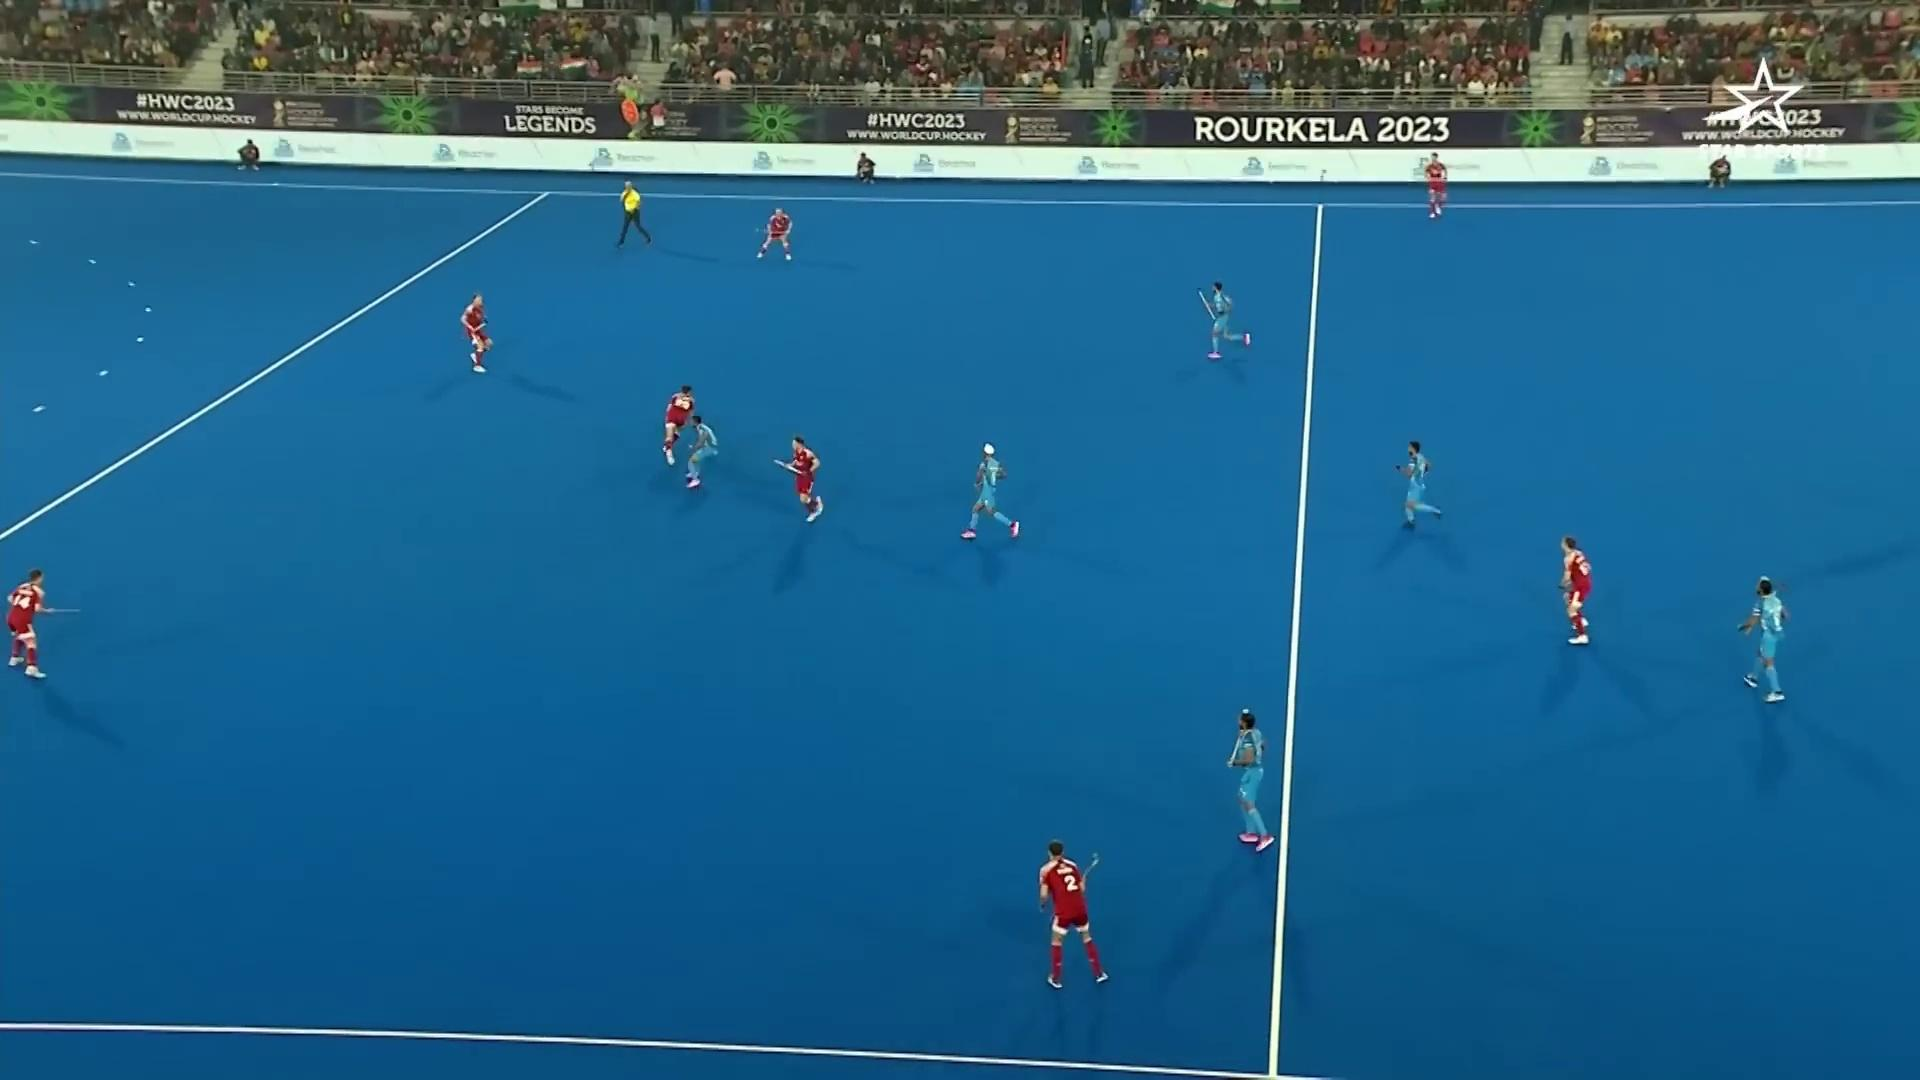ball: (686, 442, 694, 450)
